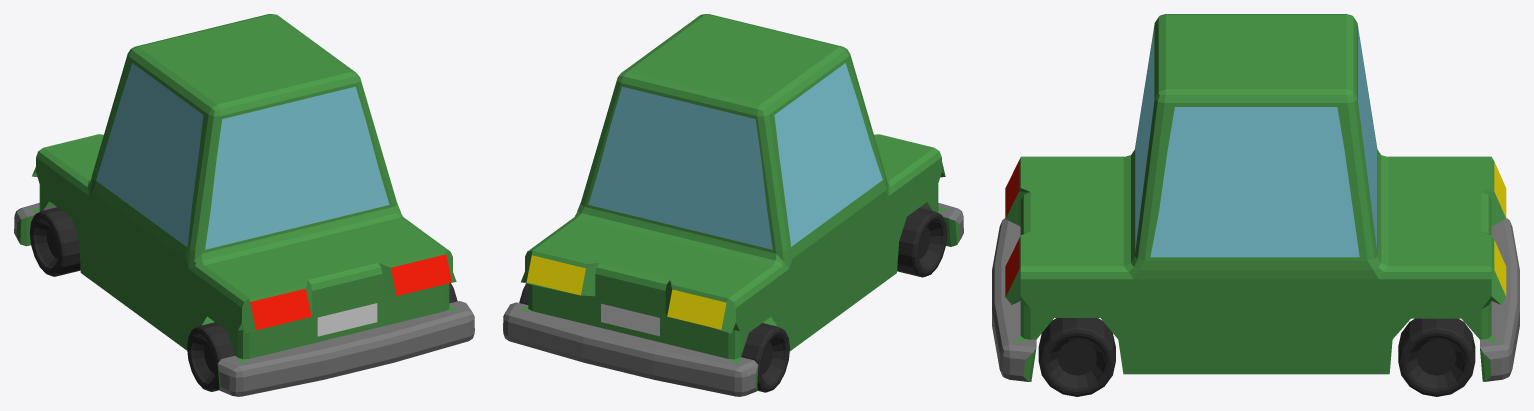
File: TS-car-3.fbx
3 views of the same model, side by side, from view 1: azimuth 30°, elevation 25°; view 2: azimuth 150°, elevation 25°; view 3: azimuth 270°, elevation 25° (orthographic). The views are drawn at different scales.
Visible parts, largest first — view 1: Cube.003; view 2: Cube.003; view 3: Cube.003.
Part boxes in pixels (box(x1,y1,x2,y2)): Cube.003: box(14, 14, 474, 396); Cube.003: box(503, 14, 963, 396); Cube.003: box(992, 14, 1519, 396).
Bounding box in the file's own units: 422 × 393 × 673.
